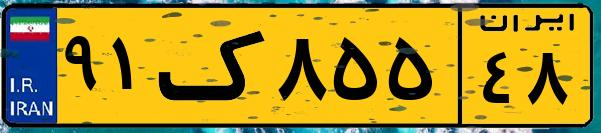1: (110, 28, 158, 98)
4: (475, 38, 525, 113)
5: (385, 28, 445, 110), (330, 28, 385, 110)
8: (270, 28, 330, 110), (525, 38, 570, 115)
9: (57, 26, 110, 100)
ک: (158, 12, 270, 120)
